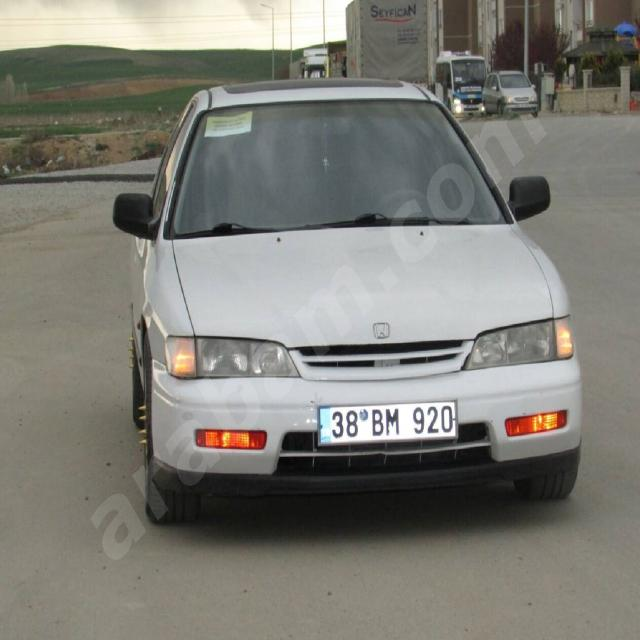license_plate: (319, 400, 457, 444)
